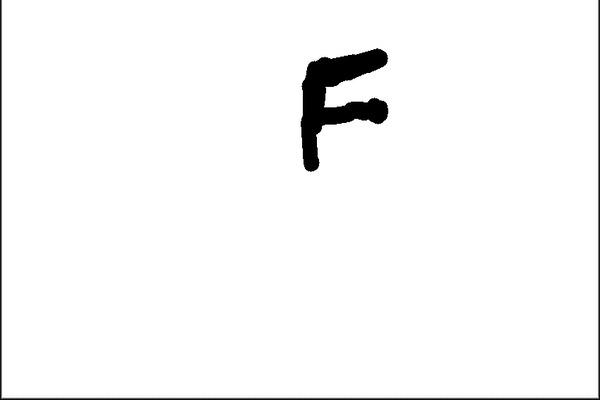F: (293, 43, 394, 175)
